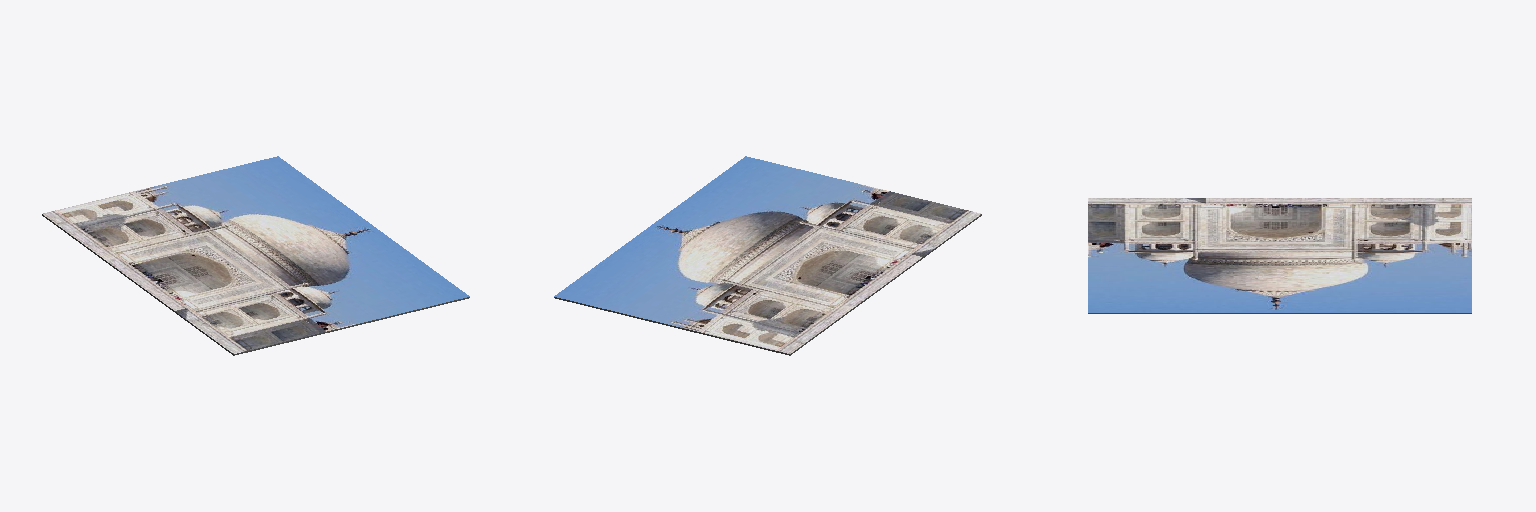
3 views of the same model, side by side, from view 1: azimuth 30°, elevation 25°; view 2: azimuth 150°, elevation 25°; view 3: azimuth 270°, elevation 25° (orthographic).
Visible parts, largest first — view 1: carpet, carpetBase; view 2: carpet, carpetBase; view 3: carpet.
Part boxes in pixels (bbox=[...]): carpet: bbox=[43, 156, 469, 353]; carpetBase: bbox=[42, 214, 469, 355]; carpet: bbox=[554, 156, 980, 353]; carpetBase: bbox=[554, 214, 981, 355]; carpet: bbox=[1088, 198, 1471, 312].
Bounding box in the file's own units: 160 × 1 × 225.
Materials: 2 (1 with a texture image).